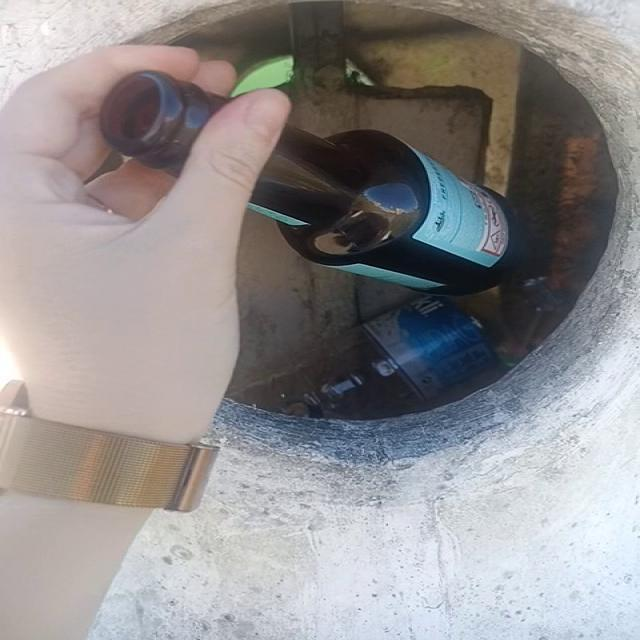glass: (249, 125, 523, 295), (100, 71, 227, 172)
